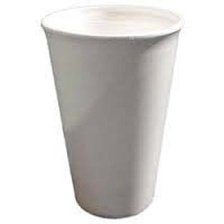paper_cup: (35, 0, 189, 224)
